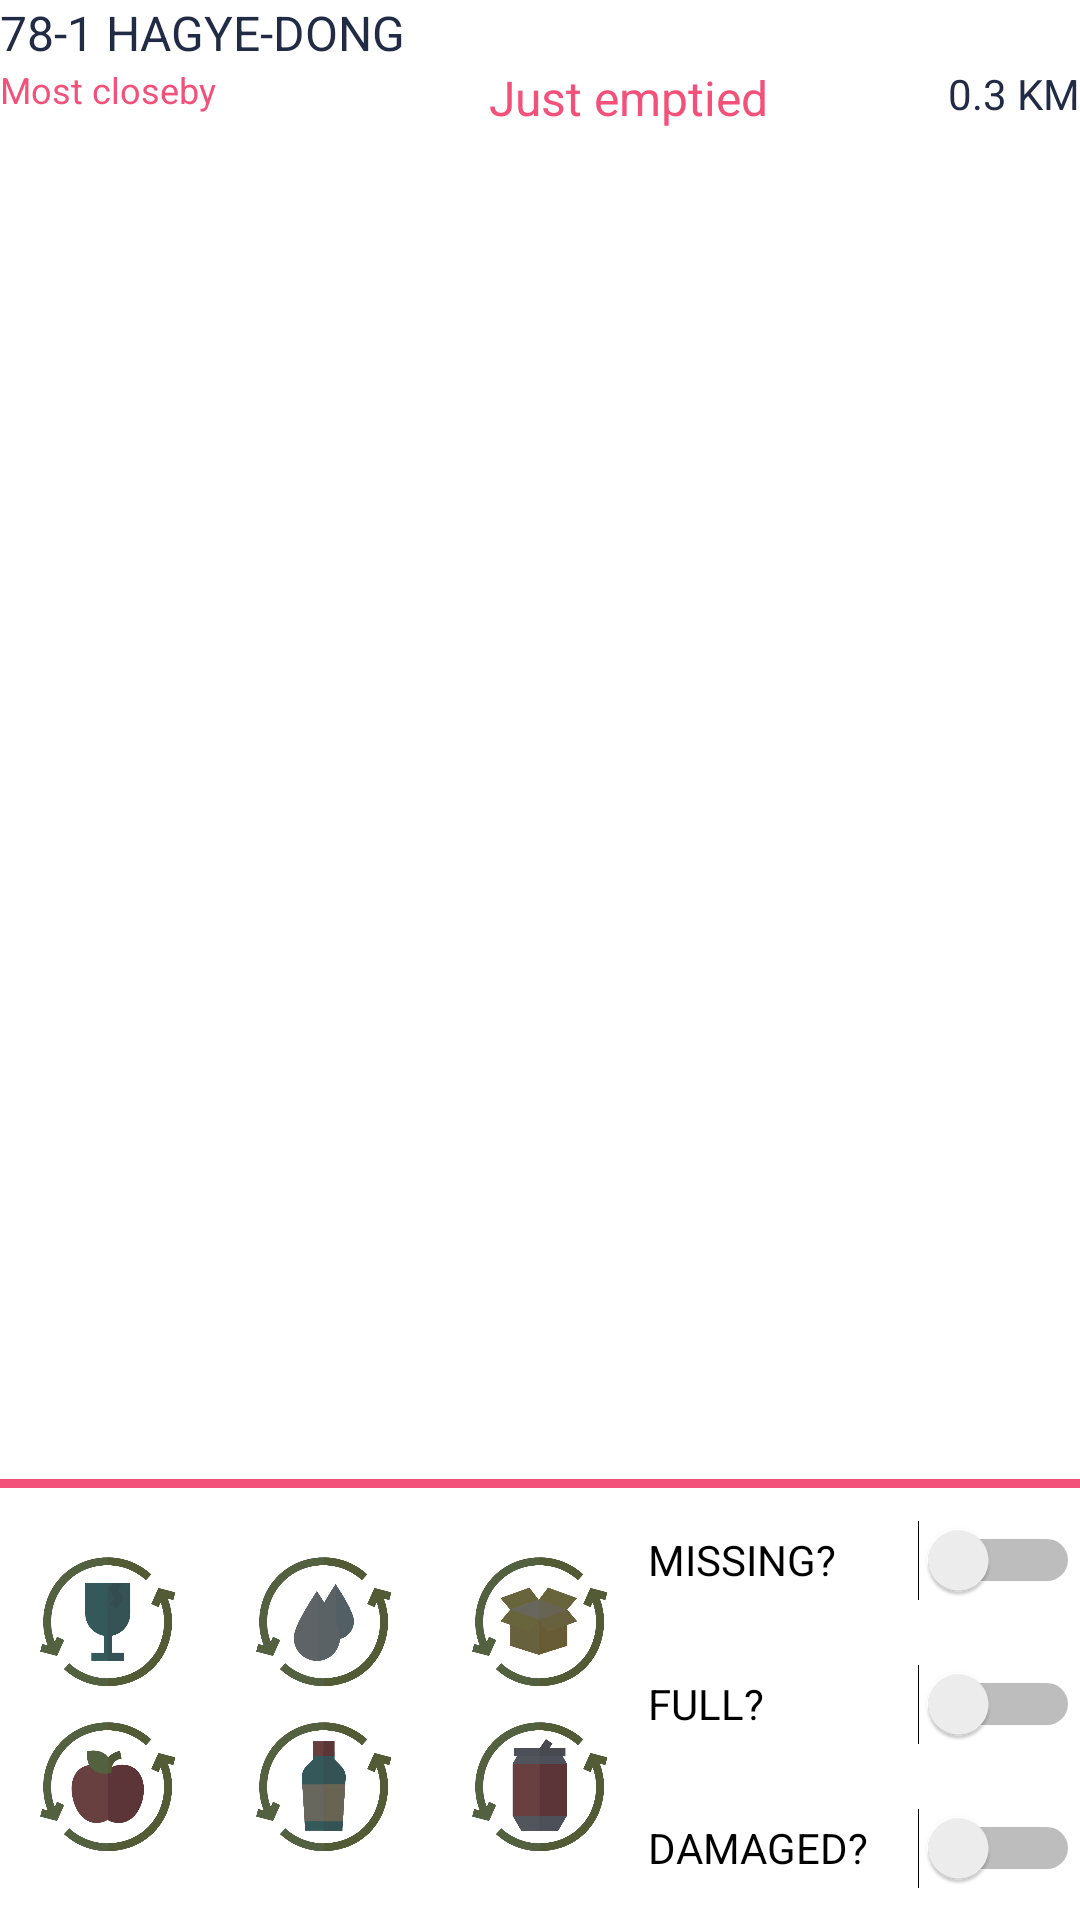

Icons on this 1080x1920 Android screen, each with its box as (x1, y1, x2, y2):
apple: (40, 1722, 175, 1851)
bottle: (256, 1722, 391, 1851)
can: (472, 1722, 607, 1851)
glass recycling: (40, 1557, 175, 1686)
resource package: (472, 1557, 607, 1686)
water: (256, 1557, 391, 1686)
